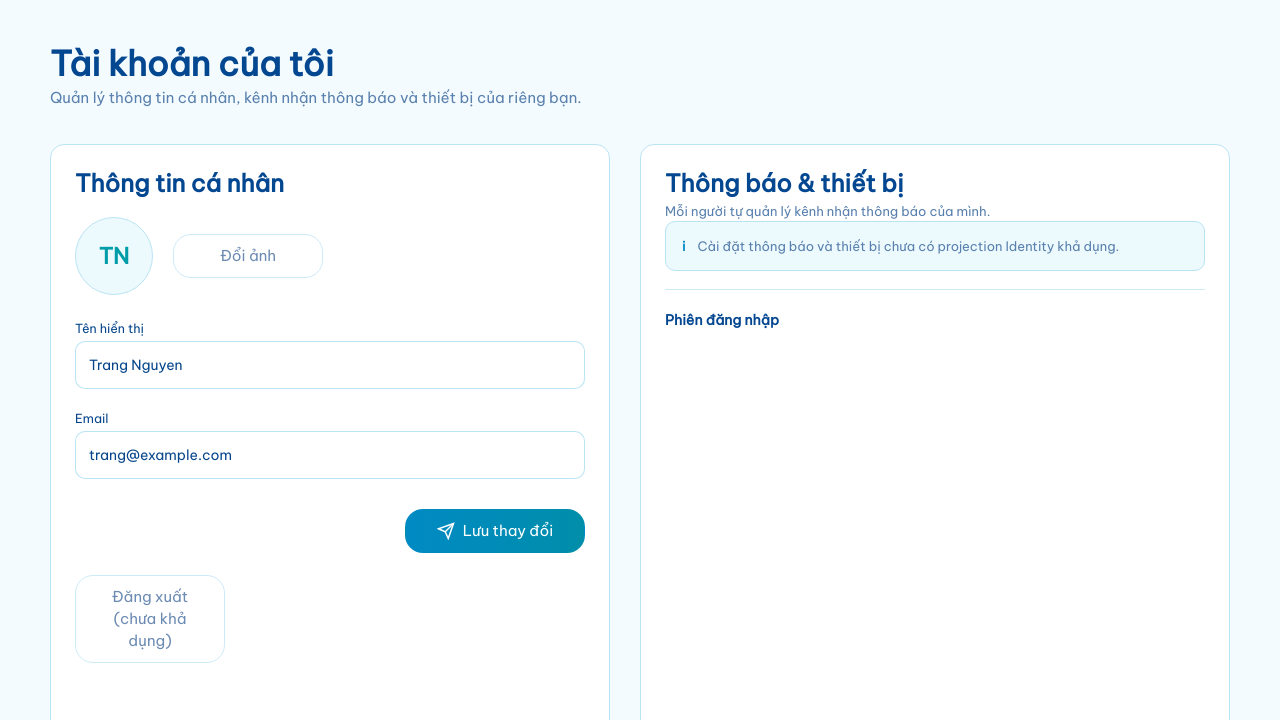
Test: Profile Gateway interactions › deduplicates pages on fetch/refetch and resets to page one after revoke
Check: the field labelled "Tên hiển thị" is shown, box [89,341,571,389]
Click the heading "Phiên đăng nhập" at (722, 320), box [665,311,779,329]
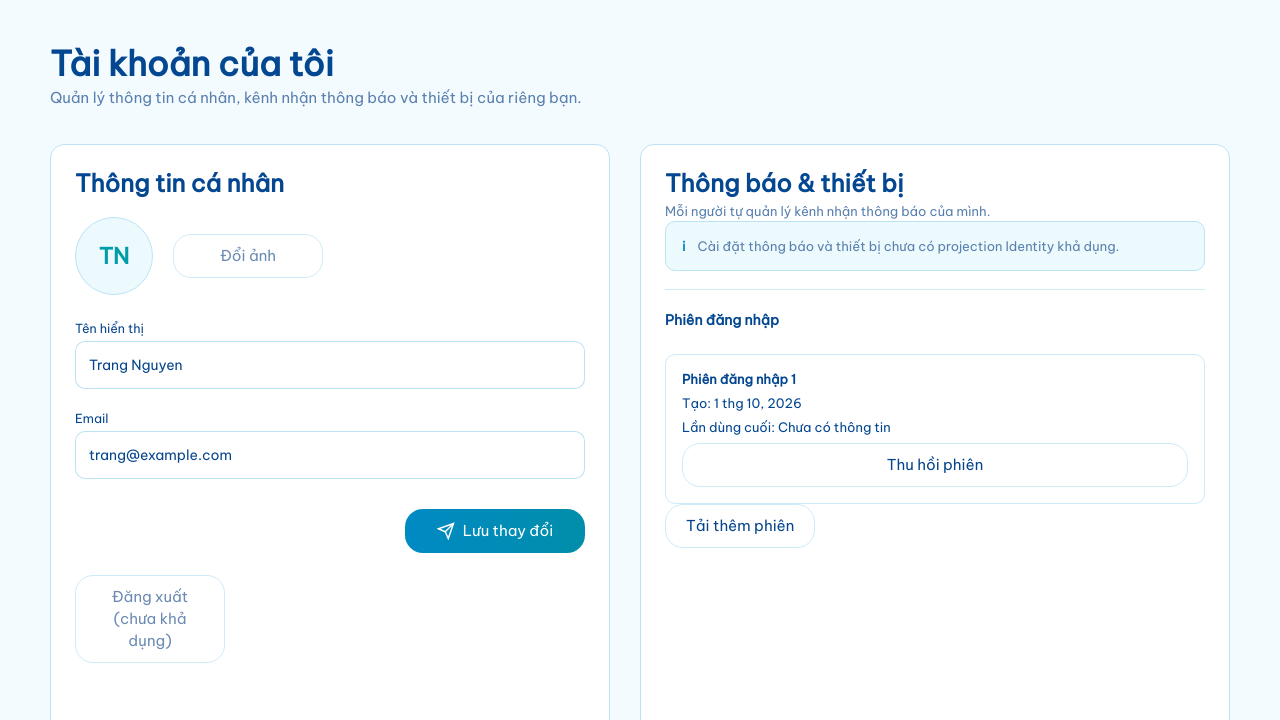
Check: the text "Phiên đăng nhập 1" is shown, box [682,371,796,387]
Click the button "Tải thêm phiên" at (740, 526), box [665,504,815,548]
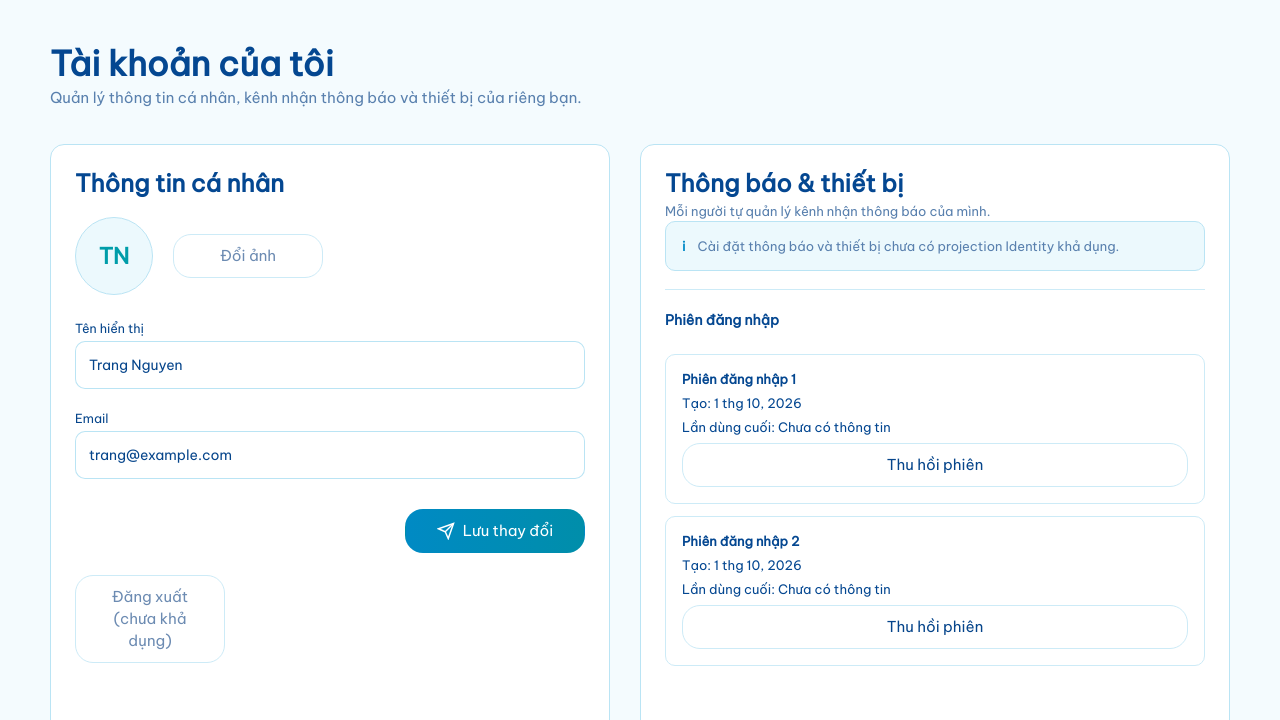
Check: the number of buttons "Thu hồi phiên" is 2
Check: the text "Phiên đăng nhập 2" is shown, box [682,533,799,549]
Double-click the 1st button "Thu hồi phiên" at (935, 465), box [682,443,1188,487]
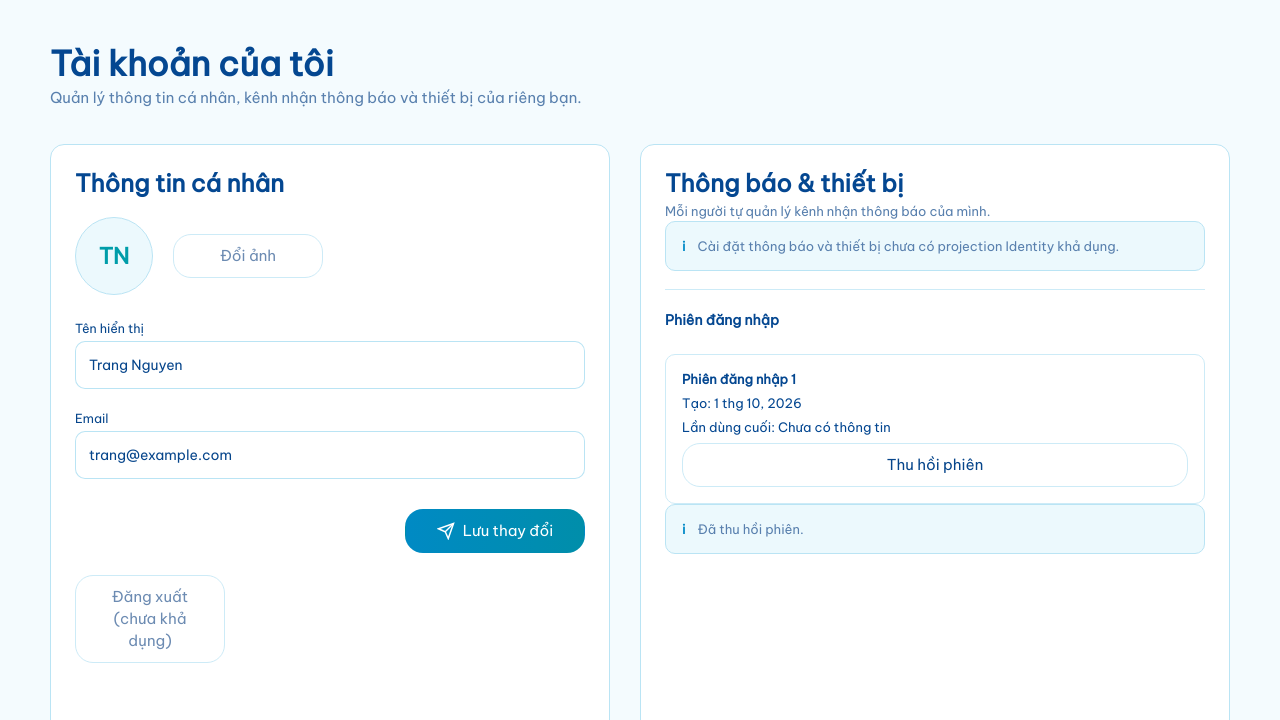
Check: the number of buttons "Thu hồi phiên" is 1, box [682,443,1188,487]
